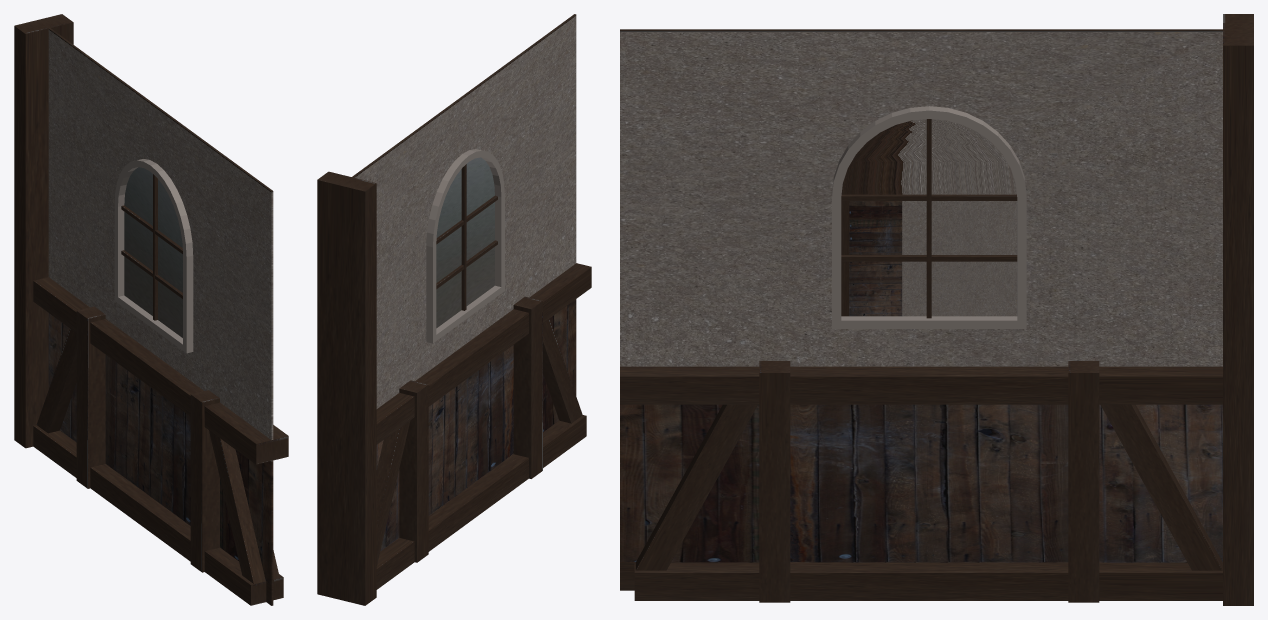
Rendered from OutdoorArchitecture_BasicWall04_Window01_RightEdge_BShortt.fbx.
3 views of the same model, side by side, from view 1: azimuth 30°, elevation 25°; view 2: azimuth 150°, elevation 25°; view 3: azimuth 270°, elevation 25° (orthographic). The views are drawn at different scales.
Visible parts, largest first — view 1: OutdoorArchitecture_BasicWall04_Window01_RightEdge_BShortt; view 2: OutdoorArchitecture_BasicWall04_Window01_RightEdge_BShortt; view 3: OutdoorArchitecture_BasicWall04_Window01_RightEdge_BShortt.
Boxes of the visible parts, box(x1,y1,x2,y2) form: OutdoorArchitecture_BasicWall04_Window01_RightEdge_BShortt: box(14, 14, 288, 605); OutdoorArchitecture_BasicWall04_Window01_RightEdge_BShortt: box(317, 14, 591, 605); OutdoorArchitecture_BasicWall04_Window01_RightEdge_BShortt: box(620, 14, 1253, 605).
Size of the model in its own units: 36.37 by 300 by 308.
